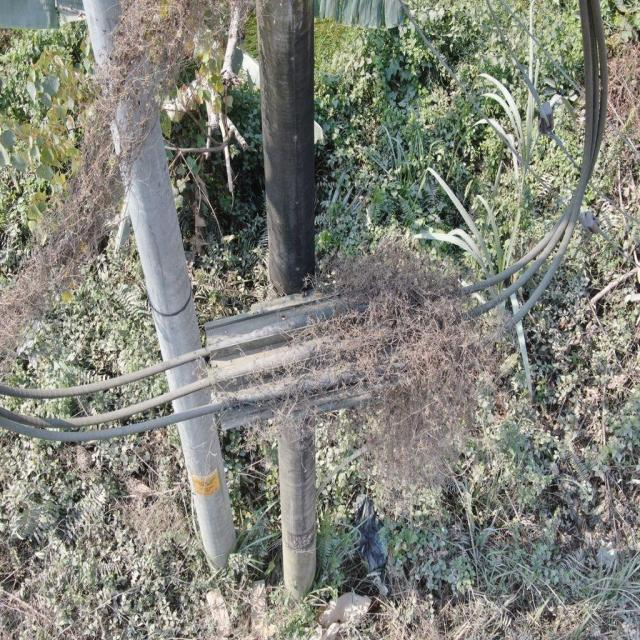critical vegetation: (14, 37, 526, 496)
